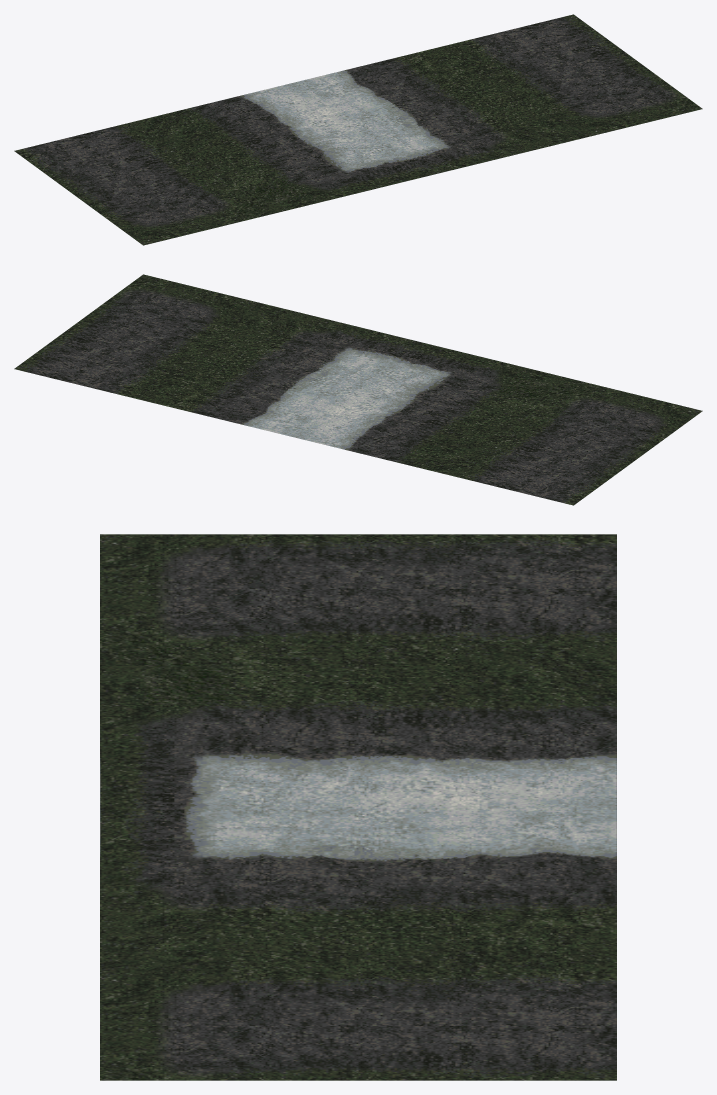
Rendered from SM_EC_Path_2.fbx.
3 views of the same model, one above another, from view 1: azimuth 30°, elevation 25°; view 2: azimuth 150°, elevation 25°; view 3: azimuth 270°, elevation 25° (orthographic). The views are drawn at different scales.
Visible parts, largest first — view 1: SM_EC_Path_2; view 2: SM_EC_Path_2; view 3: SM_EC_Path_2.
Part boxes in pixels (x1,y1,x2,y2): SM_EC_Path_2: [14, 14, 702, 245]; SM_EC_Path_2: [14, 274, 702, 505]; SM_EC_Path_2: [100, 534, 616, 1080].
Size of the model in its own units: 10 by 4 by 0.
